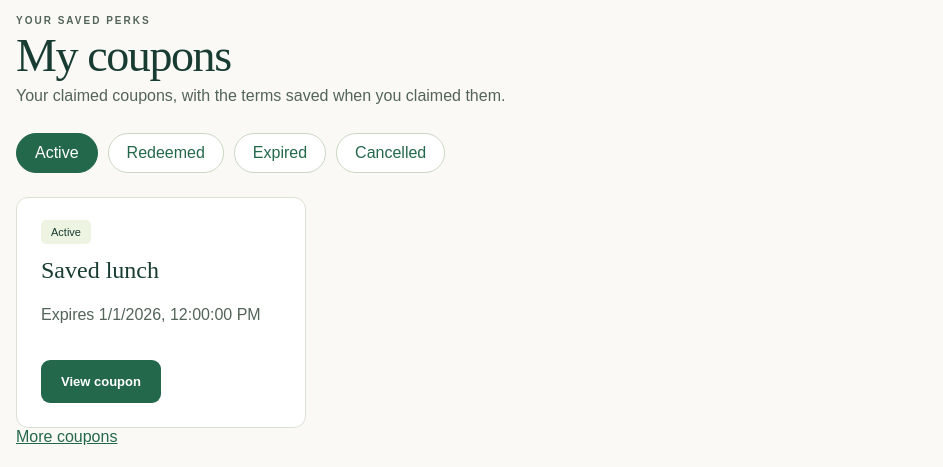
wallet filters reset pagination and never request detail tokens
The image size is (943, 467).
Click the button "More coupons": [67, 437] box top-left (16, 428), bottom-right (117, 446)
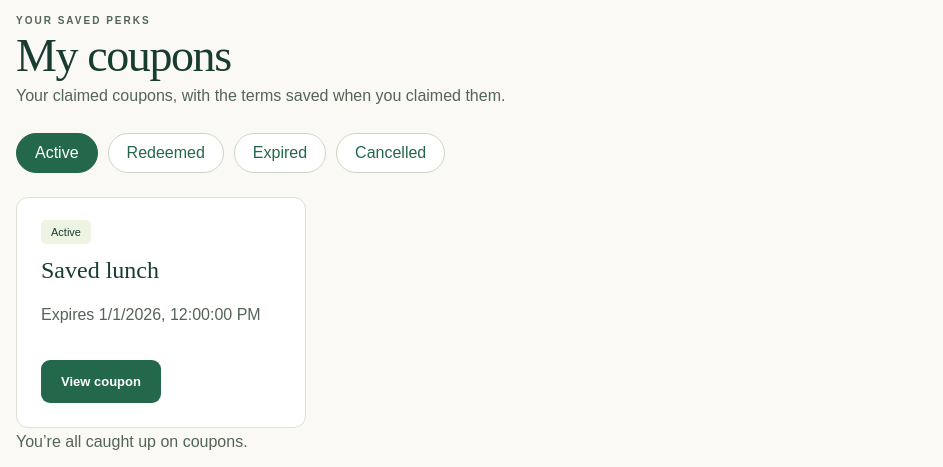
Click the button "Expired": [280, 153] box top-left (234, 133), bottom-right (326, 173)
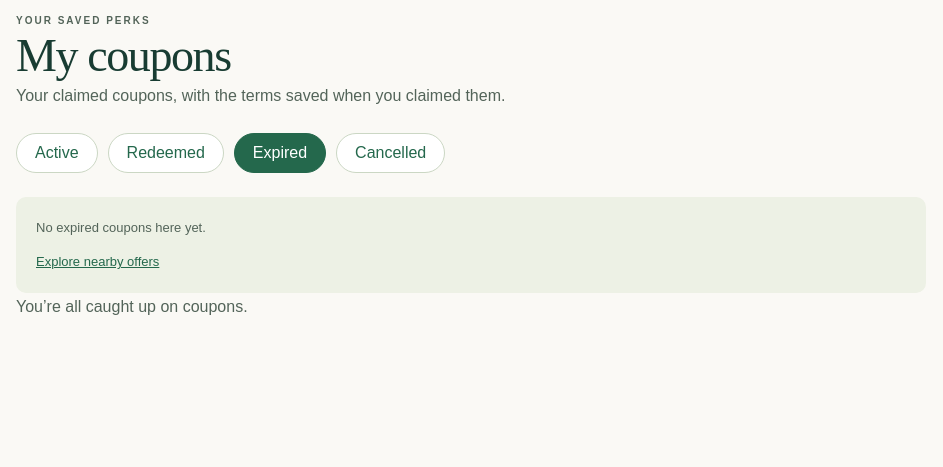
Now the text "No expired coupons here yet." is shown, box top-left (36, 220), bottom-right (206, 235)
